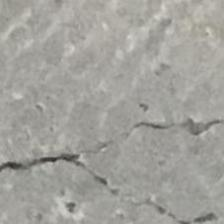Crack: (2, 103, 223, 224)
